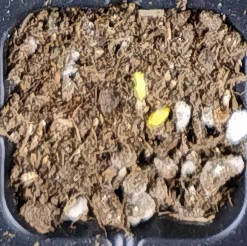pepper seed: (61, 40, 232, 168), (58, 19, 206, 120)
